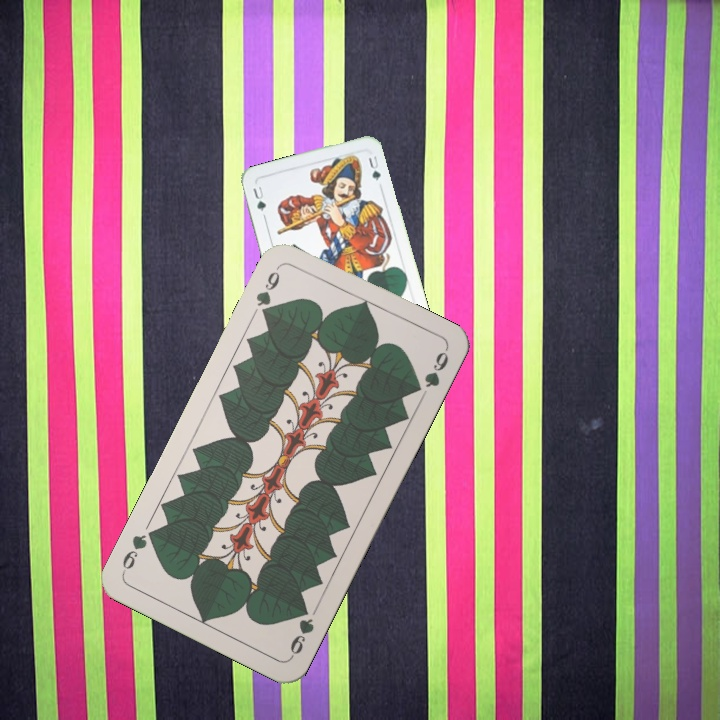G9: (285, 601, 317, 661), (251, 262, 283, 321)
GU: (249, 182, 269, 214)
